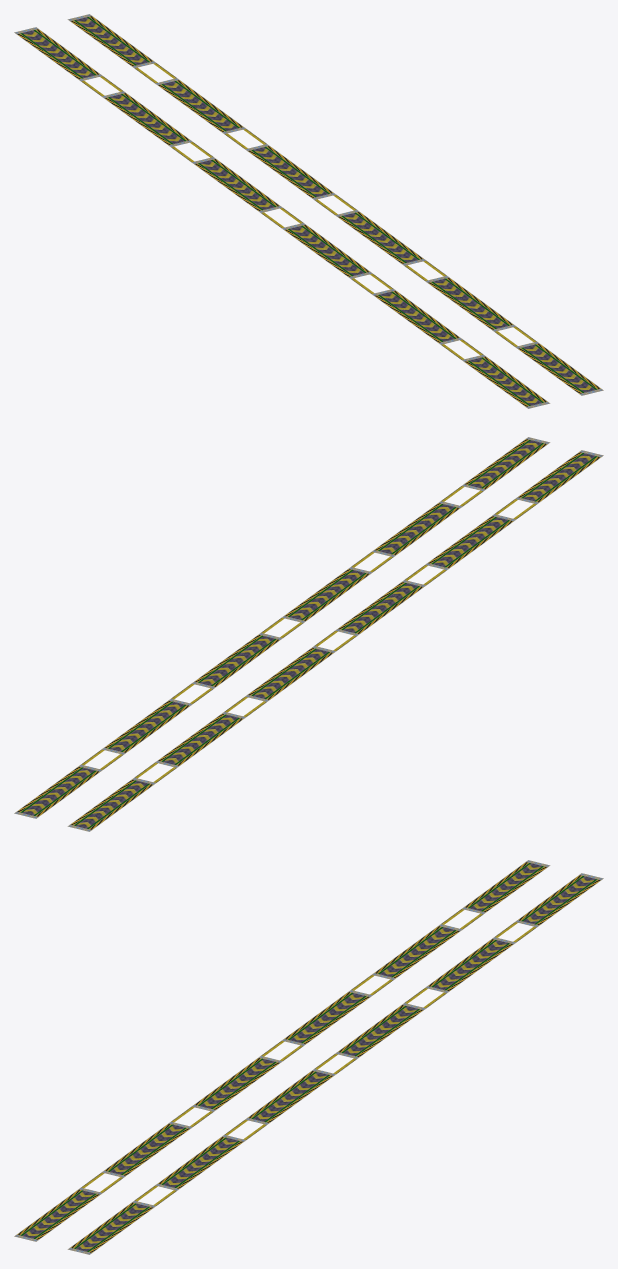
The model's file is S23_ONS_15.obj.
The picture shows the model from 3 angles, top to bottom: view 1: azimuth 30°, elevation 25°; view 2: azimuth 150°, elevation 25°; view 3: azimuth 330°, elevation 25°; orthographic projection.
Visible parts, largest first — view 1: Object_2; view 2: Object_2; view 3: Object_2.
Boxes of the visible parts, box(x1,y1,x2,y2) form: Object_2: box(14, 14, 603, 408); Object_2: box(14, 437, 603, 831); Object_2: box(14, 860, 603, 1254).
Bounding box in the file's own units: 340 × 0 × 4000.
